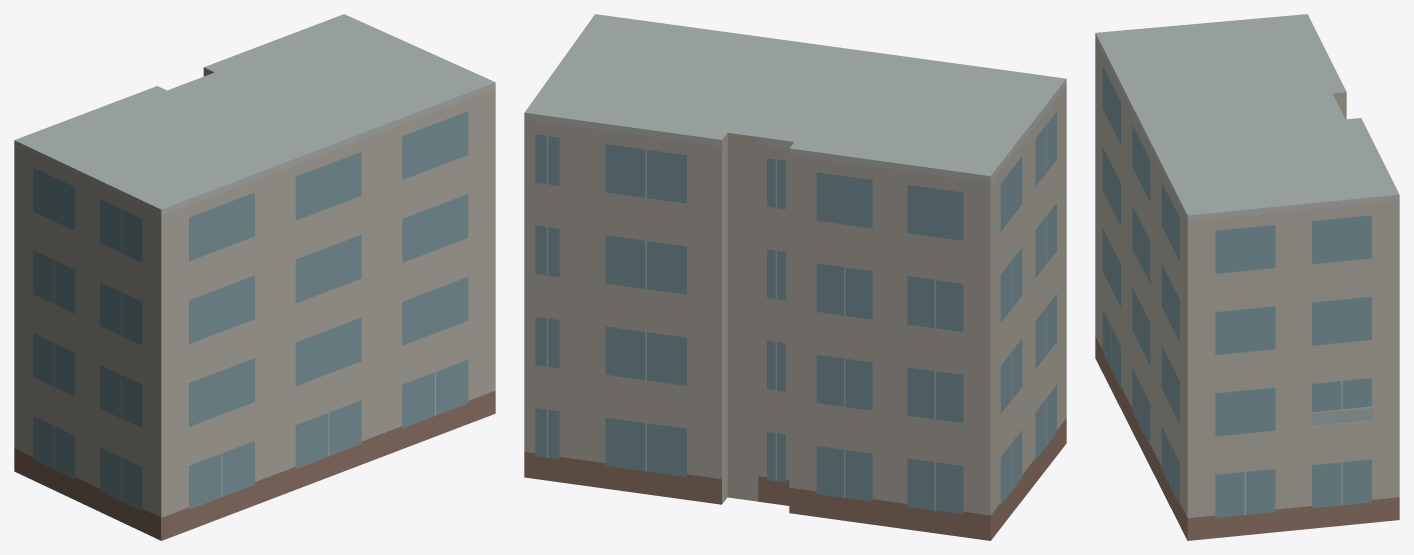
File: survey-upis-33006772.glb
3 renders of one model, left to right at view 1: azimuth 30°, elevation 25°; view 2: azimuth 150°, elevation 25°; view 3: azimuth 270°, elevation 25°, orthographic. The views are drawn at different scales.
Visible parts, largest first — view 1: survey-upis-33006772.tmp; view 2: survey-upis-33006772.tmp; view 3: survey-upis-33006772.tmp.
Boxes of the visible parts, box(x1,y1,x2,y2) form: survey-upis-33006772.tmp: box(14, 14, 495, 540); survey-upis-33006772.tmp: box(524, 14, 1066, 540); survey-upis-33006772.tmp: box(1095, 14, 1399, 540).
Bounding box in the file's own units: 17.81 × 13.4 × 11.36.
